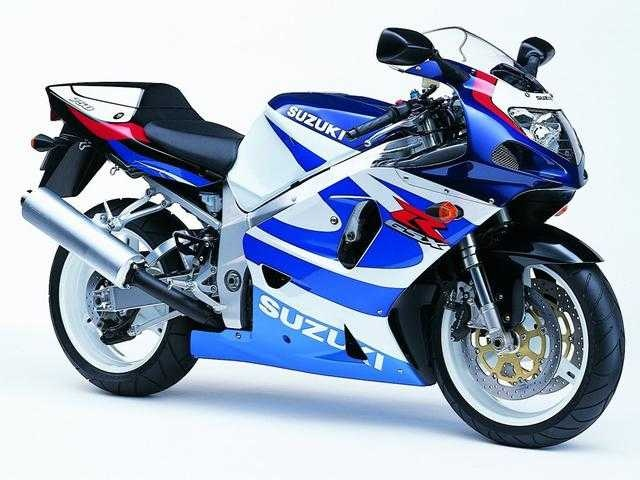motorbike: (21, 27, 624, 450)
